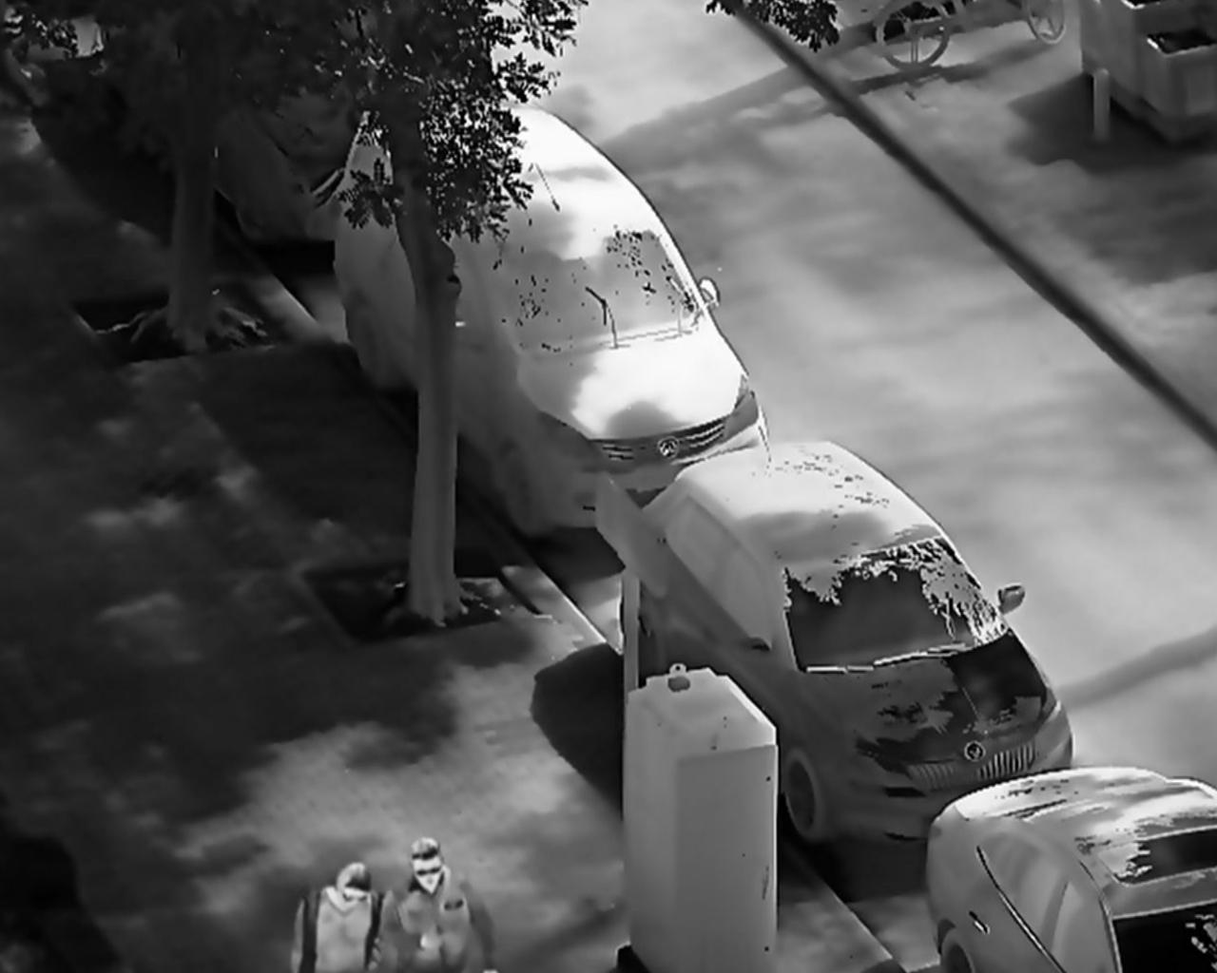person: (388, 835, 504, 973), (286, 859, 394, 973)
